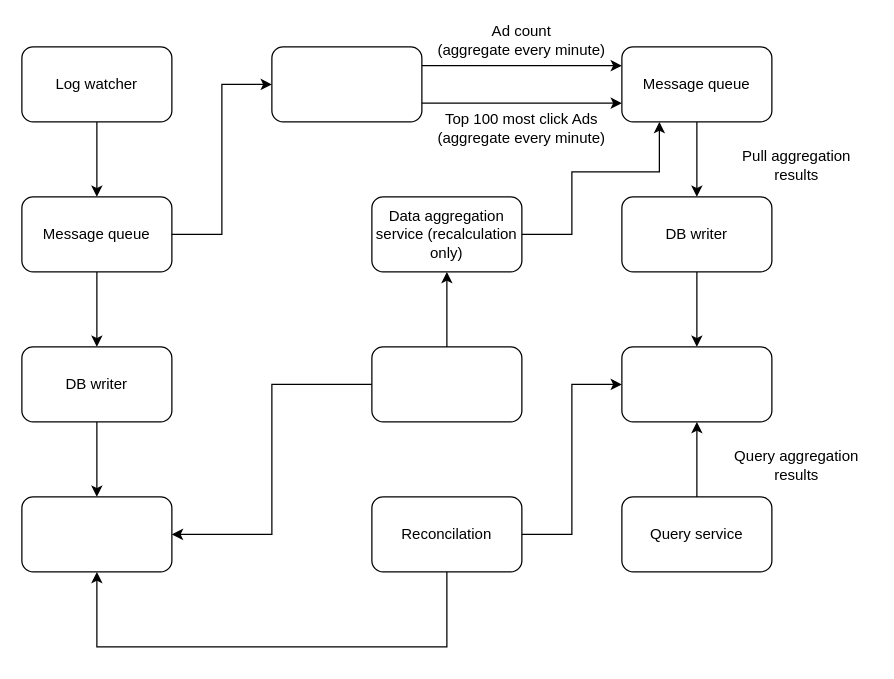
Image size: 894x679. Some labels were removed from this diagram. The shapes that lost their labels are listed below. From the top down, each one's centre as x and y in pixels, then its label:
At pixel 346 84: "Data aggregation service".
At pixel 446 384: "Recalculation service".
At pixel 696 384: "Aggregation DB".
At pixel 96 534: "Raw data DB".
